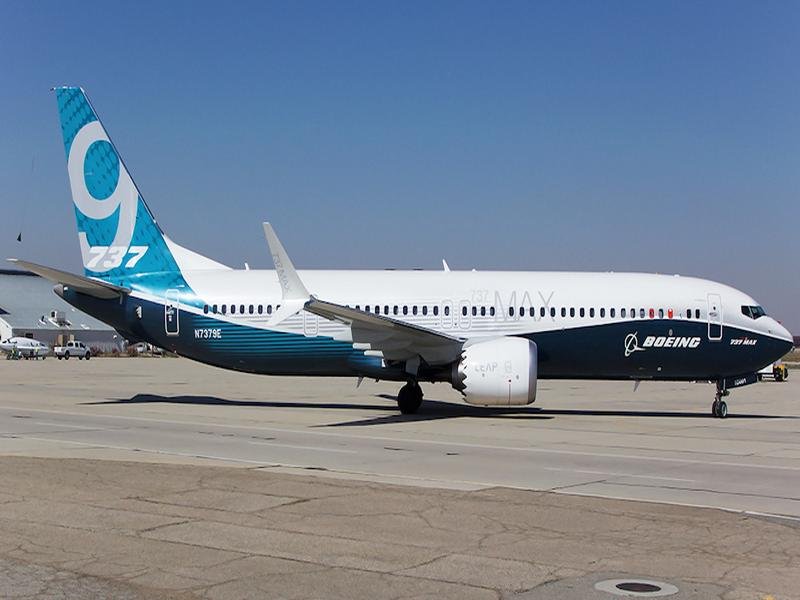737-MAX: (4, 69, 797, 428)
